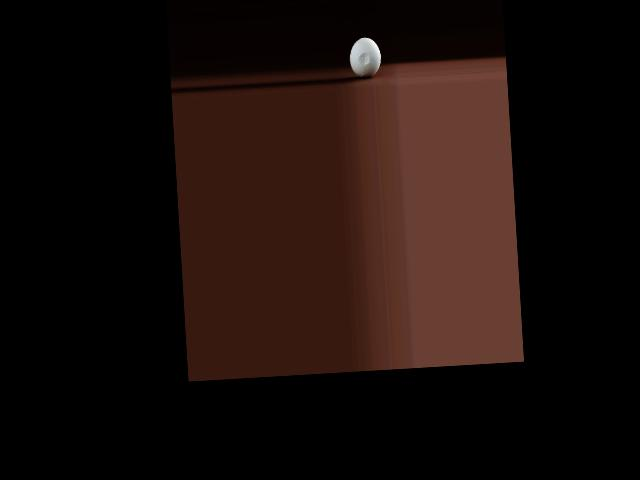egg: (348, 36, 381, 78)
